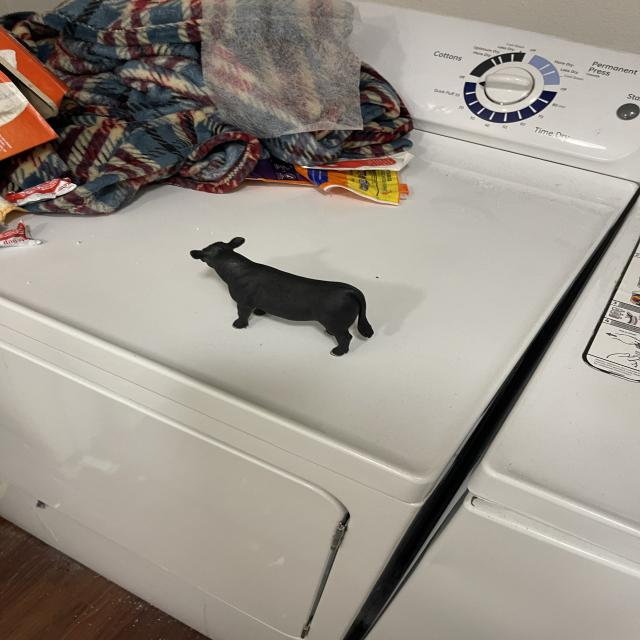cow: (170, 221, 388, 380)
